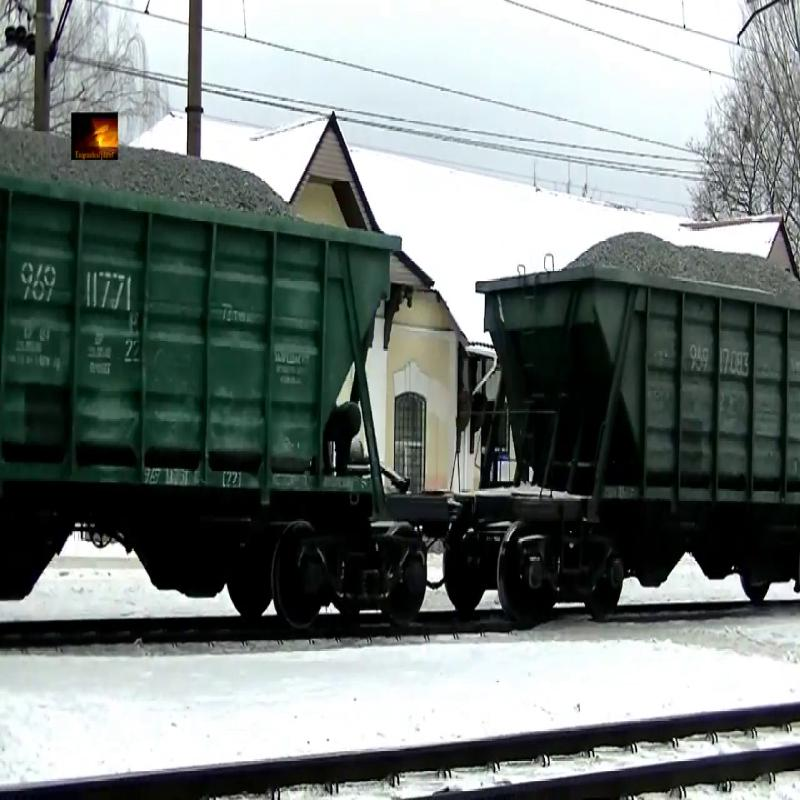train: (1, 142, 403, 636), (460, 237, 800, 631)
